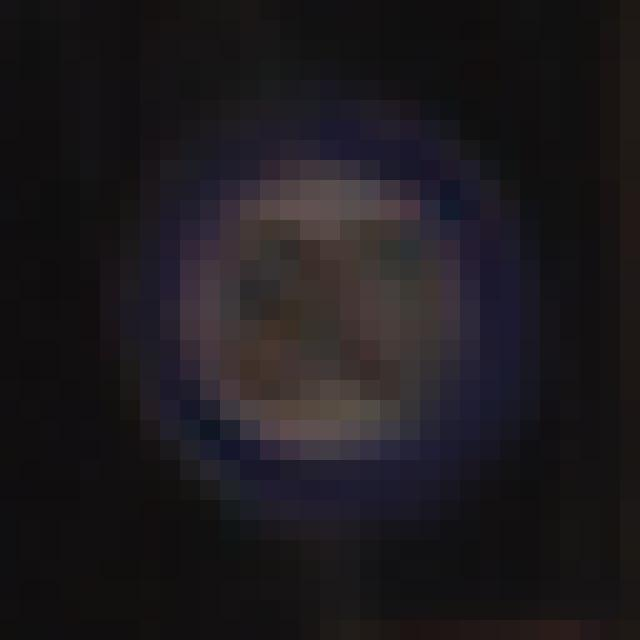SPEED-LIMIT-80: (129, 131, 513, 487)
